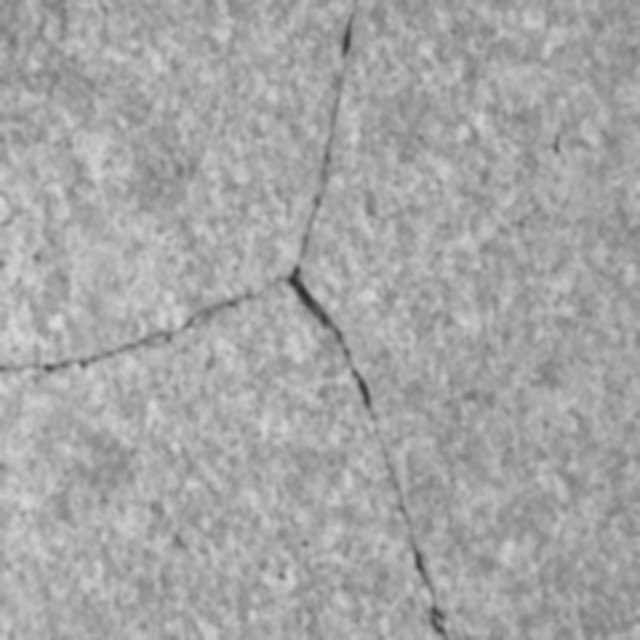SurfaceCrack: (112, 1, 526, 640)
